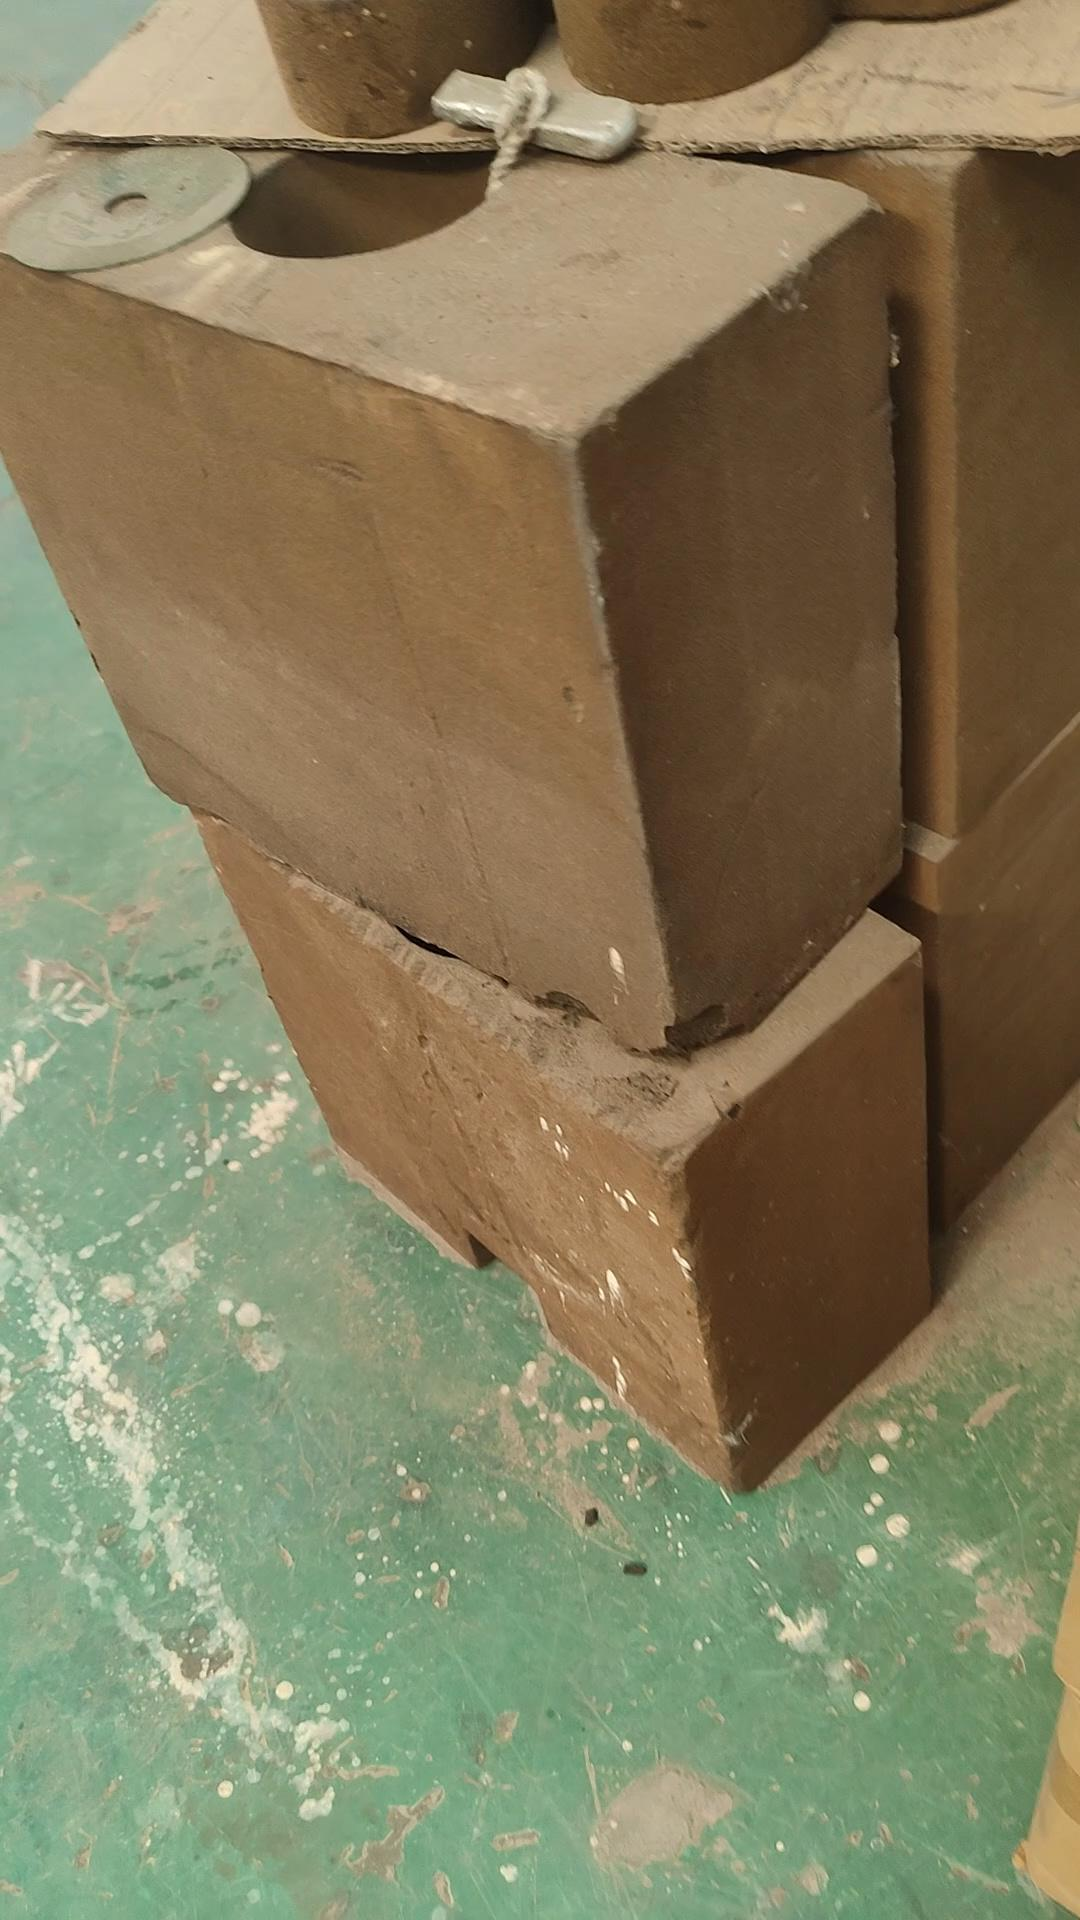pouring hole: (227, 128, 498, 261)
